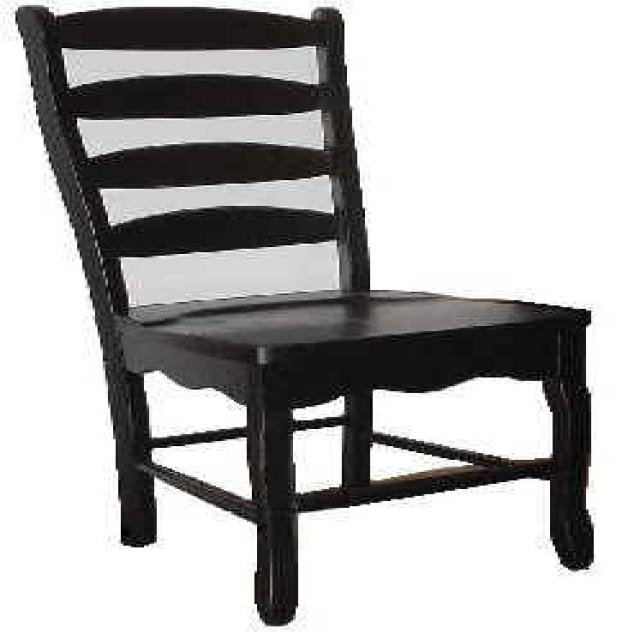chair: (13, 2, 596, 624)
